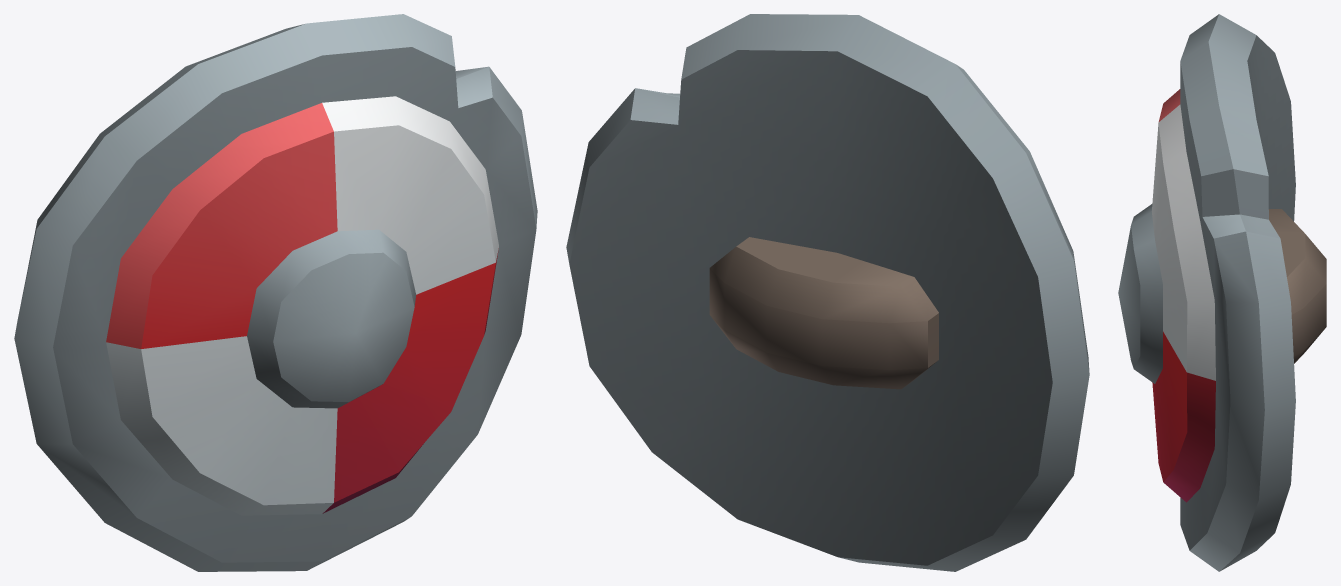
The model's file is shield_round_color.glb.
3 views of the same model, side by side, from view 1: azimuth 30°, elevation 25°; view 2: azimuth 150°, elevation 25°; view 3: azimuth 270°, elevation 25° (orthographic). The views are drawn at different scales.
Parts seen in each view (by area): view 1: shield_round_color; view 2: shield_round_color; view 3: shield_round_color.
Boxes of the visible parts, x1=… form: shield_round_color: x1=14, y1=14, x2=537, y2=571; shield_round_color: x1=566, y1=14, x2=1089, y2=571; shield_round_color: x1=1118, y1=14, x2=1326, y2=571.
Size of the model in its own units: 0.8826 by 0.8826 by 0.3319.
Materials: 1 (1 with a texture image).
